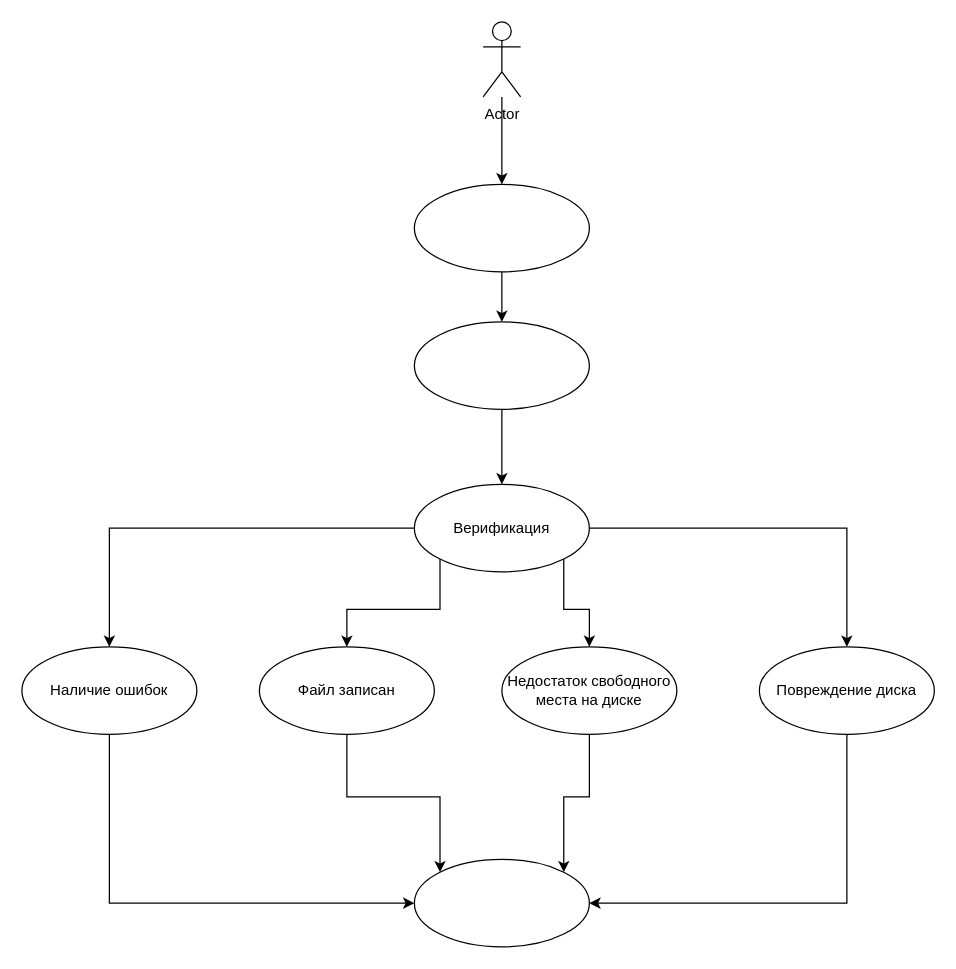
This 956x969 diagram has some shape labels left out. The centre of each missing label's shape, as x and y in pixels:
"Выбор файла для записи" goes at (501,227).
"Вывод сообщения пользователю" goes at (501,902).
"Запись файла" goes at (501,365).
